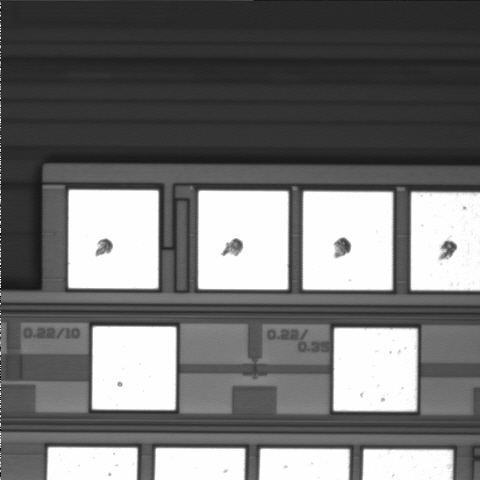pad: (68, 190, 158, 289), (303, 191, 393, 290), (198, 191, 288, 289), (92, 326, 176, 410), (334, 328, 417, 411)
